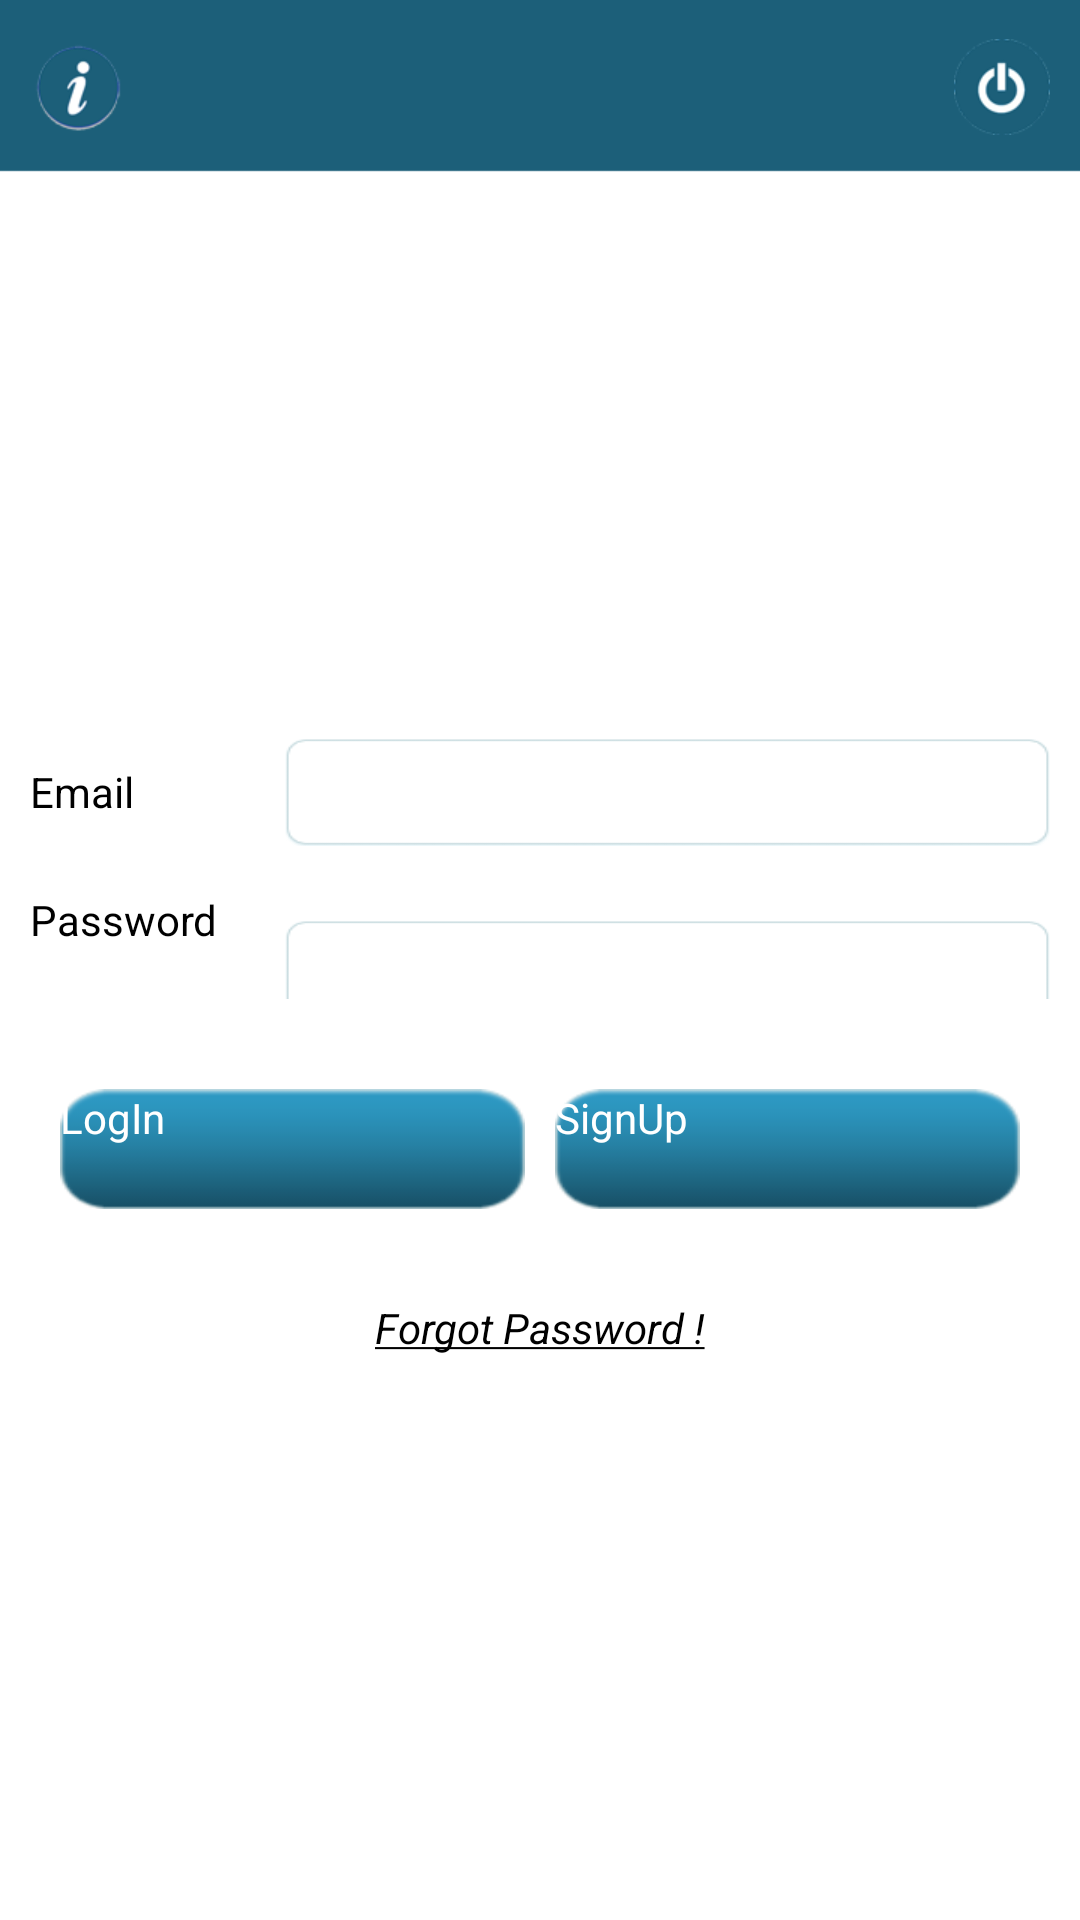

Where to tap for icons on this 1080px x 1920px app screen, as (x,y):
about us: (78,88)
